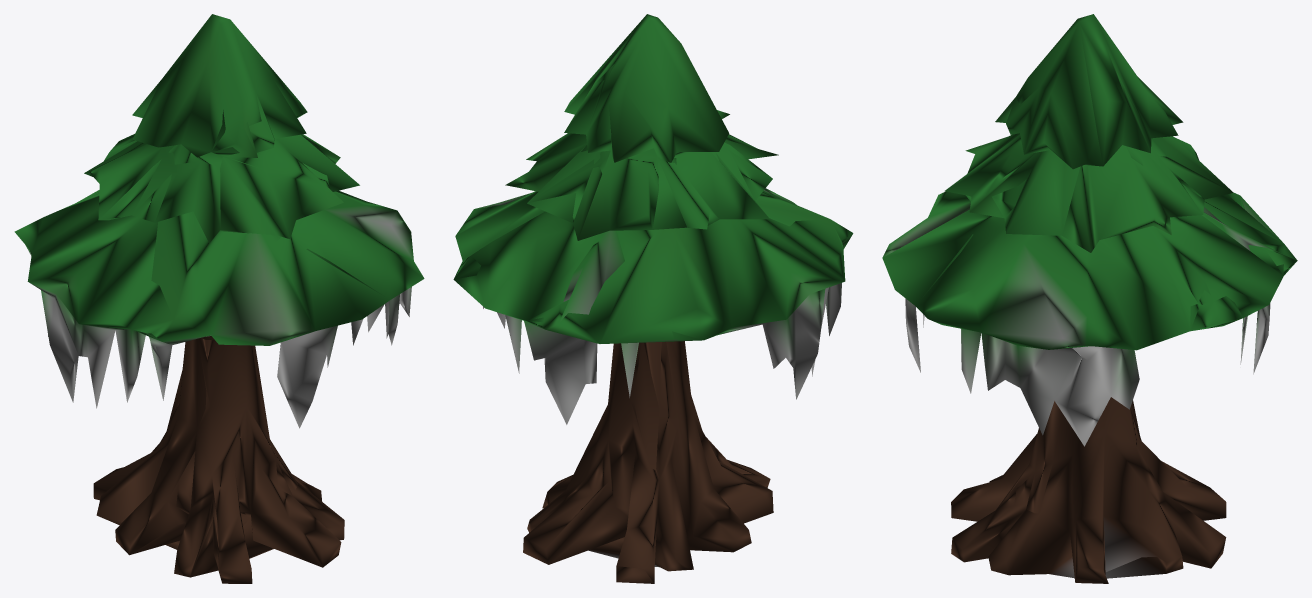
File: gen3d-cypress-tree-lod1.glb
3 renders of one model, left to right at view 1: azimuth 30°, elevation 25°; view 2: azimuth 150°, elevation 25°; view 3: azimuth 270°, elevation 25°, orthographic. The views are drawn at different scales.
Visible parts, largest first — view 1: part_0; view 2: part_0; view 3: part_0.
Boxes of the visible parts, x1,y1,x2,y2 form: part_0: [14, 14, 424, 583]; part_0: [453, 14, 853, 583]; part_0: [882, 14, 1297, 583].
Bounding box in the file's own units: 0.6524 × 0.9925 × 0.6678.
